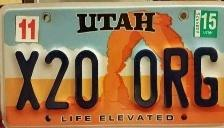0: (131, 45, 160, 110), (72, 49, 100, 110)
2: (42, 47, 72, 110)
G: (192, 44, 220, 110)
R: (161, 45, 193, 111)
X: (11, 48, 43, 112)
